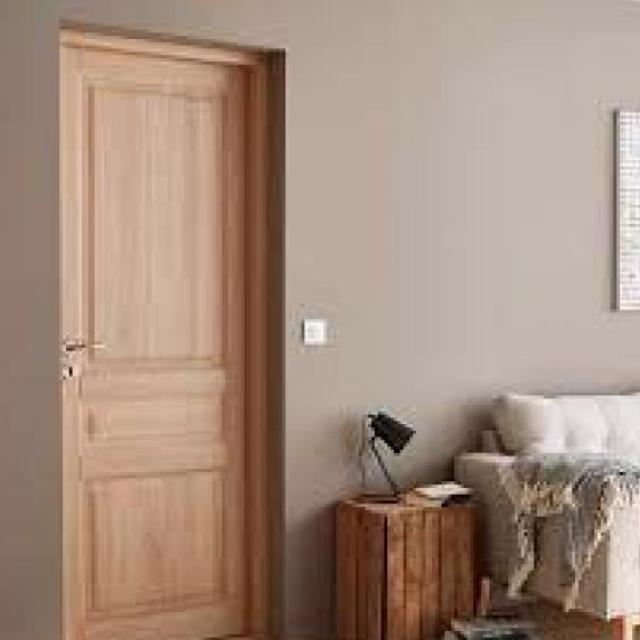door: (58, 26, 273, 637)
